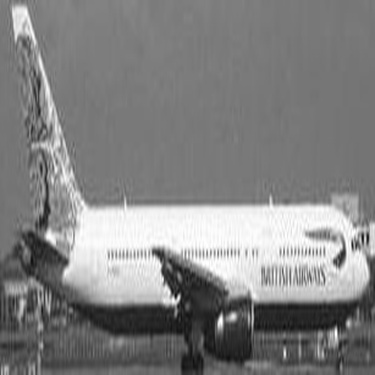airplane: (1, 14, 366, 358)
